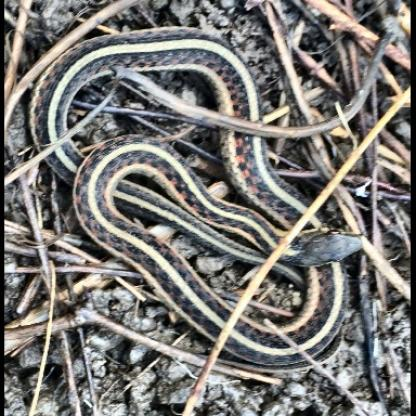Snake: (27, 30, 361, 366)
